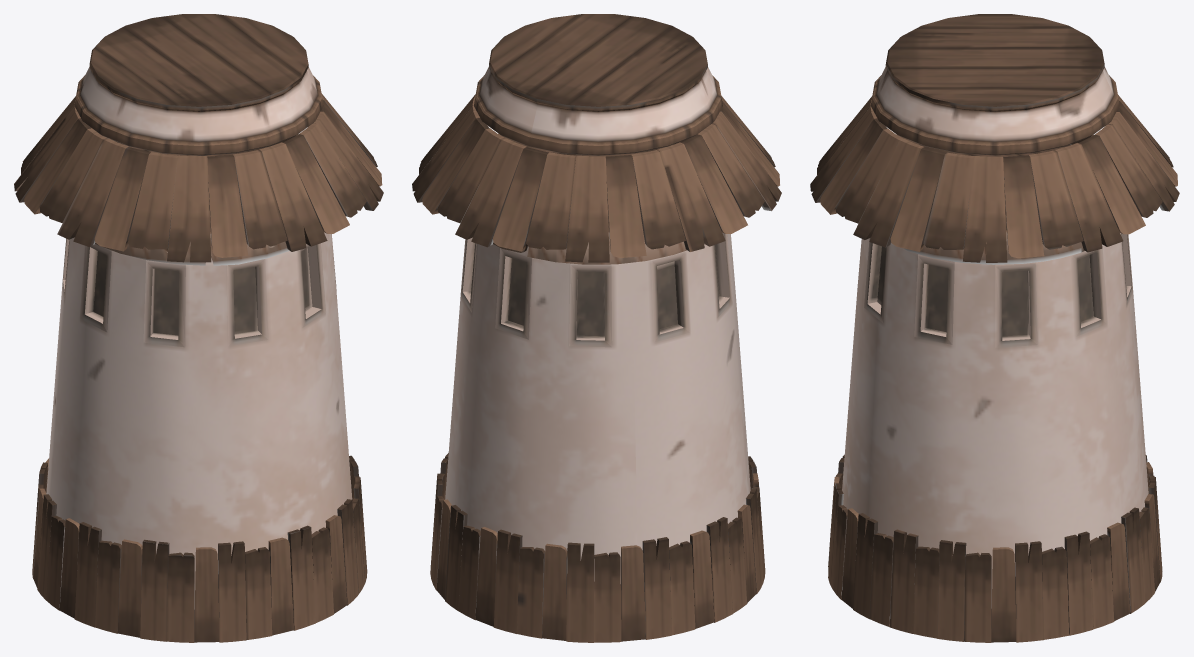
Rendered from Structure_2.FBX.
The picture shows the model from 3 angles, left to right: view 1: azimuth 30°, elevation 25°; view 2: azimuth 150°, elevation 25°; view 3: azimuth 270°, elevation 25°; orthographic projection.
Parts seen in each view (by area): view 1: Z3_Structure_2; view 2: Z3_Structure_2; view 3: Z3_Structure_2.
Part boxes in pixels (x1,y1,x2,y2): Z3_Structure_2: (14, 14, 383, 642); Z3_Structure_2: (412, 14, 781, 642); Z3_Structure_2: (810, 14, 1179, 642).
Size of the model in its own units: 638 by 982 by 642.
